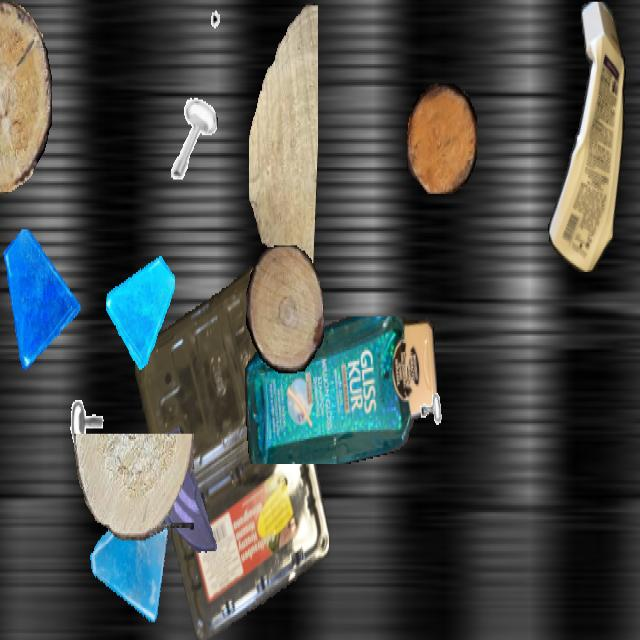glass: (88, 489, 172, 638), (1, 230, 81, 372), (142, 416, 222, 558), (106, 247, 174, 368)
metal: (167, 92, 217, 182), (68, 366, 114, 448), (411, 351, 455, 428), (210, 2, 250, 73), (0, 439, 7, 532)
plastic: (135, 265, 329, 638), (245, 316, 437, 462), (542, 2, 630, 272)
wood: (249, 1, 317, 282), (74, 434, 194, 540), (246, 245, 324, 374), (0, 2, 51, 194), (407, 84, 477, 194)
